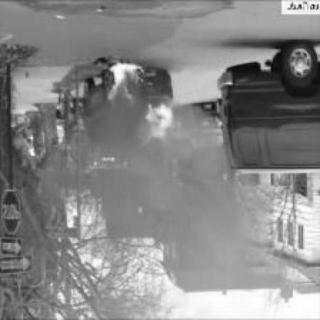Fire: (103, 62, 146, 110)
Smoke: (27, 152, 280, 304)
